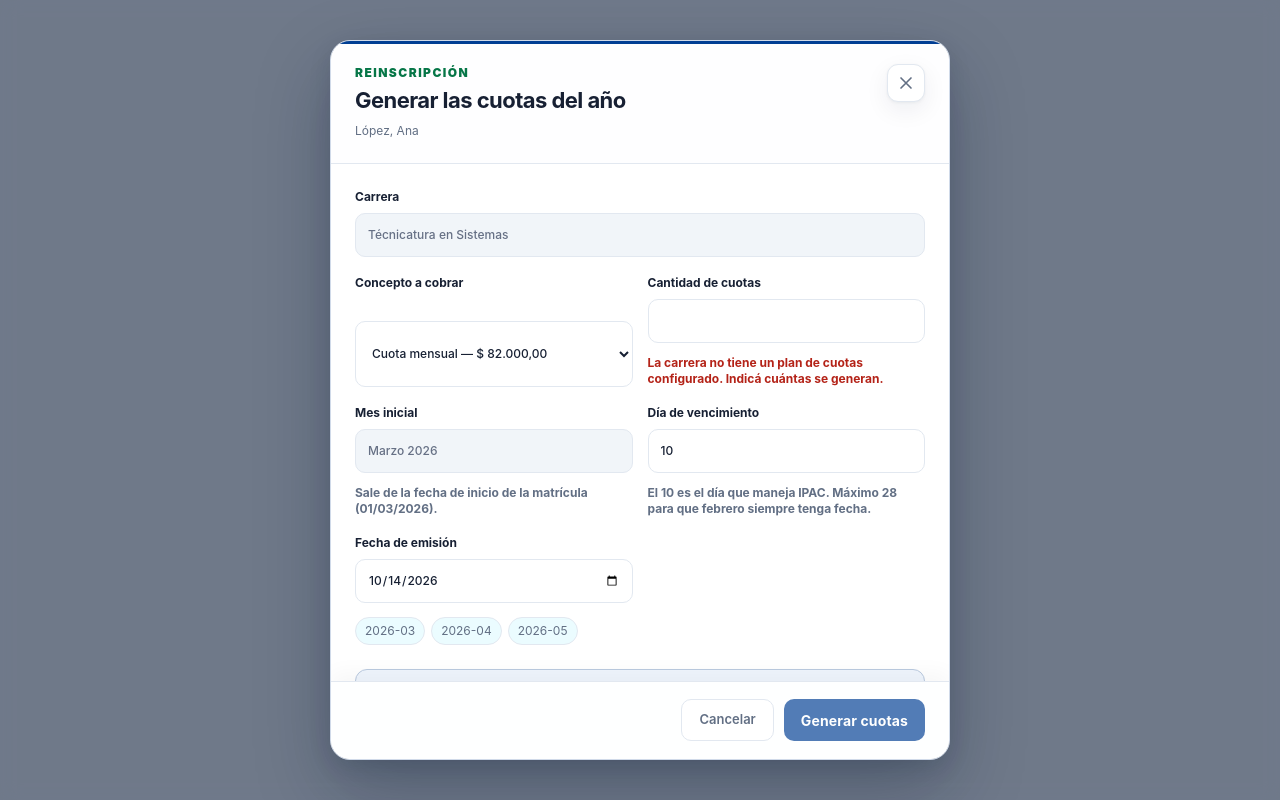
Test: ReinscripcionCuotasModal › sin plan muestra los períodos calculados y habilita el envío
In the 1st number field: [786, 320] box left=648, top=298, right=925, bottom=342, type "3"
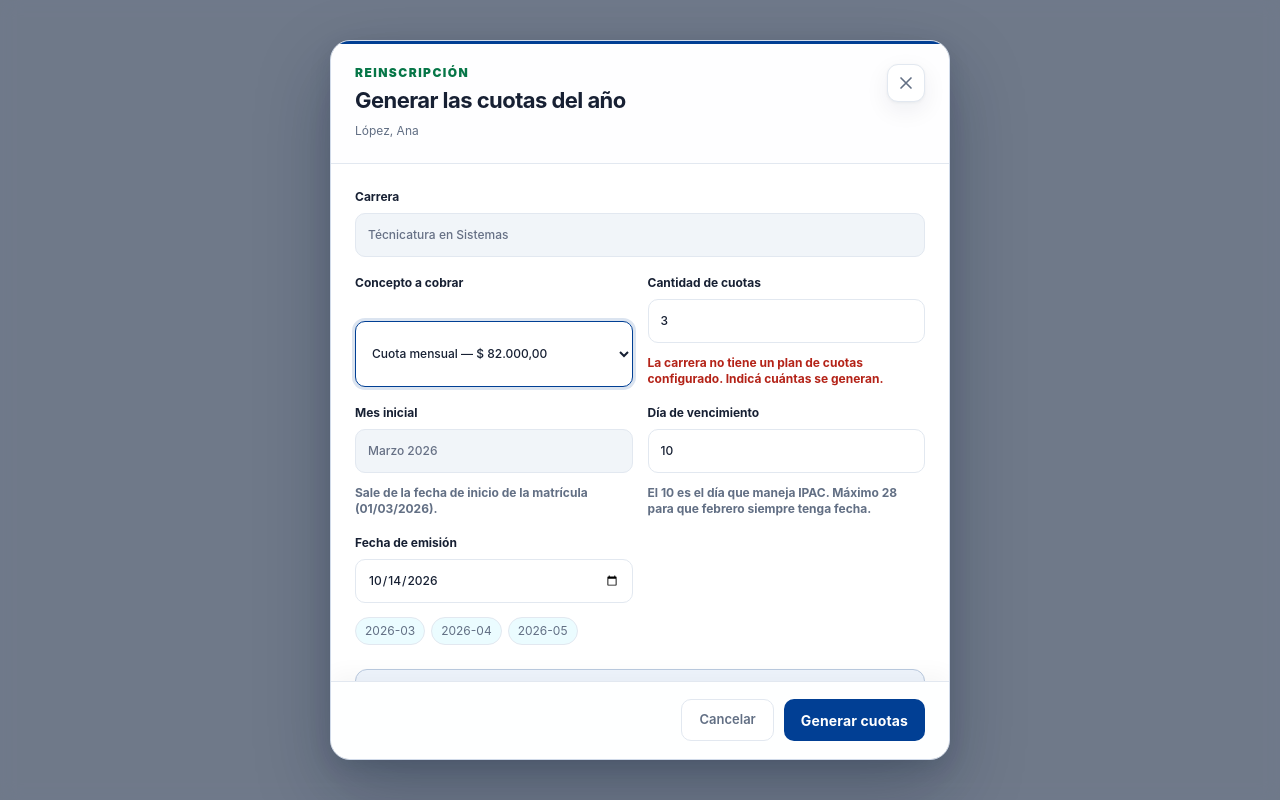
Check: the number of list items is 3, box left=355, top=617, right=425, bottom=645; left=431, top=617, right=502, bottom=645; left=508, top=617, right=578, bottom=645
Check: the submit button is enabled, box left=784, top=700, right=925, bottom=742
